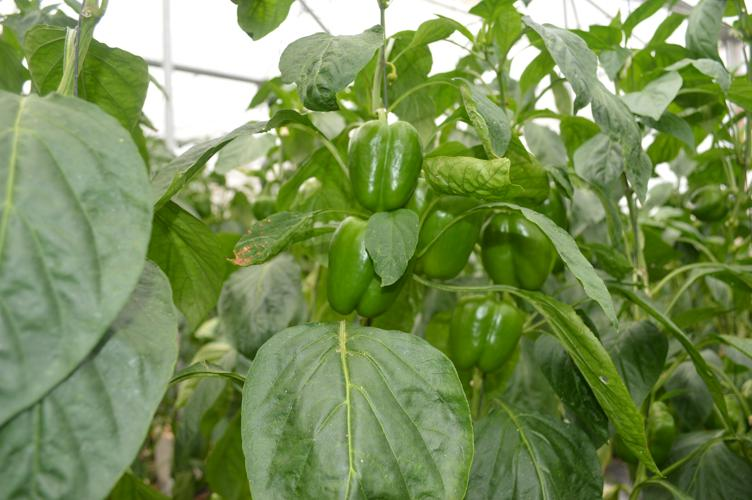BellPepper: (323, 216, 401, 313), (442, 292, 527, 373), (345, 120, 425, 206), (404, 204, 482, 282), (480, 212, 551, 292)
